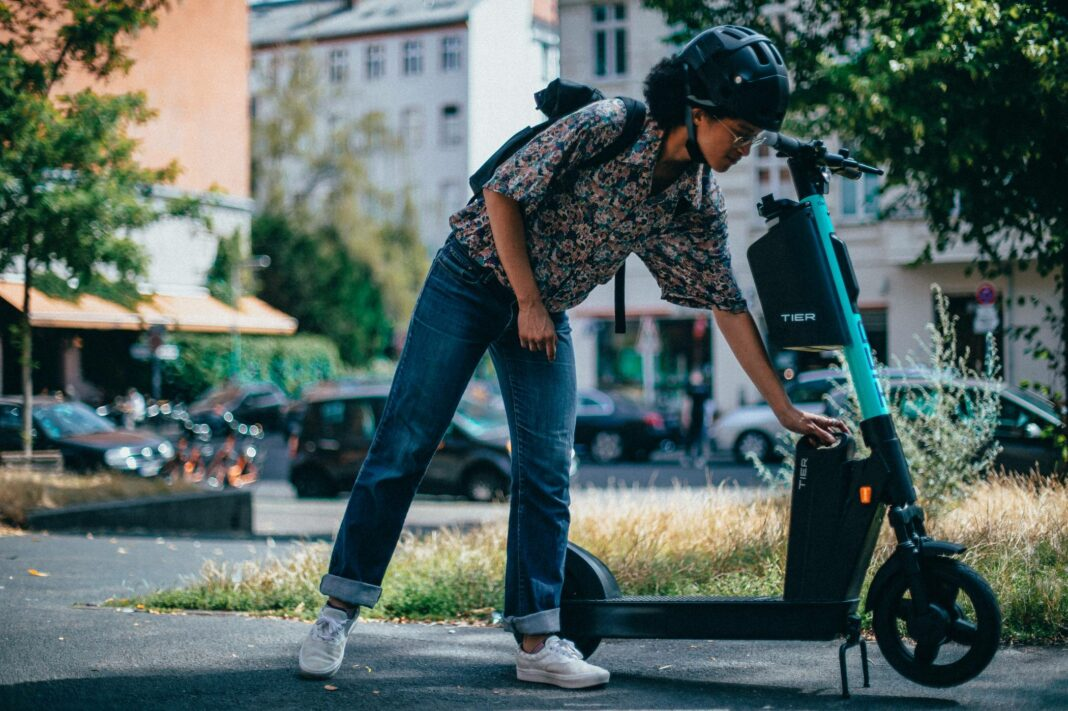scooter: (508, 123, 1006, 688)
with helmet: (639, 15, 793, 188)
